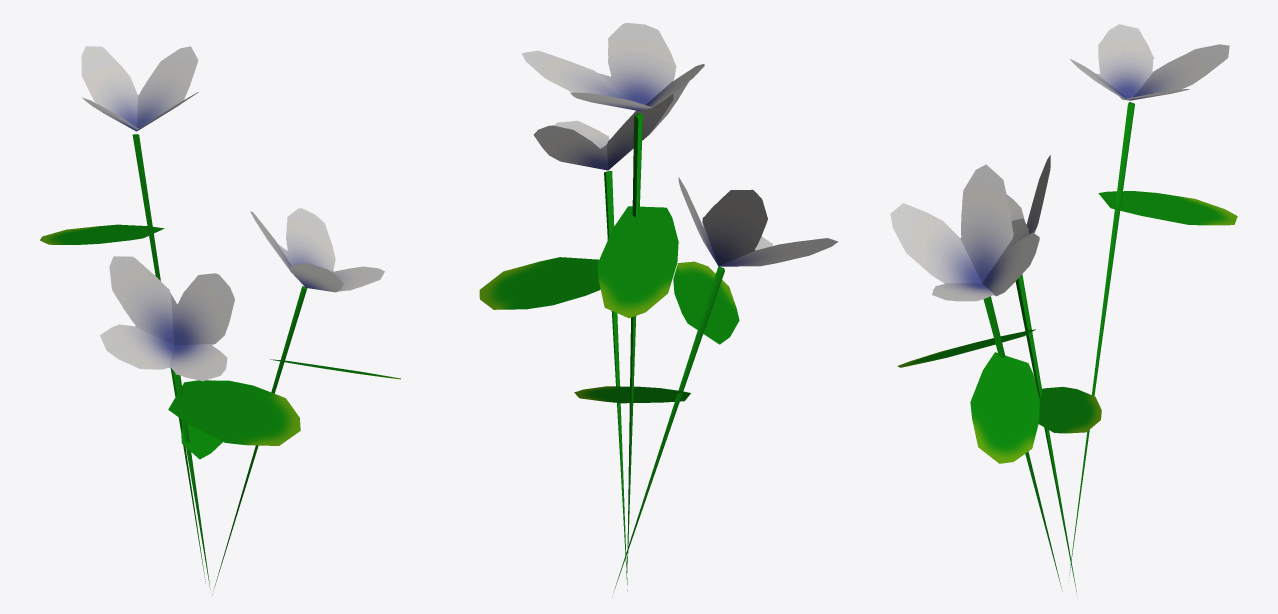
Rendered from flower1.FBX.
3 renders of one model, left to right at view 1: azimuth 30°, elevation 25°; view 2: azimuth 150°, elevation 25°; view 3: azimuth 270°, elevation 25°, orthographic. The views are drawn at different scales.
Visible parts, largest first — view 1: forest_plant; view 2: forest_plant; view 3: forest_plant.
Boxes of the visible parts, x1=… form: forest_plant: x1=40, y1=46, x2=400, y2=594; forest_plant: x1=479, y1=23, x2=838, y2=592; forest_plant: x1=890, y1=24, x2=1237, y2=593.
Bounding box in the file's own units: 55.84 × 80.96 × 54.47.
